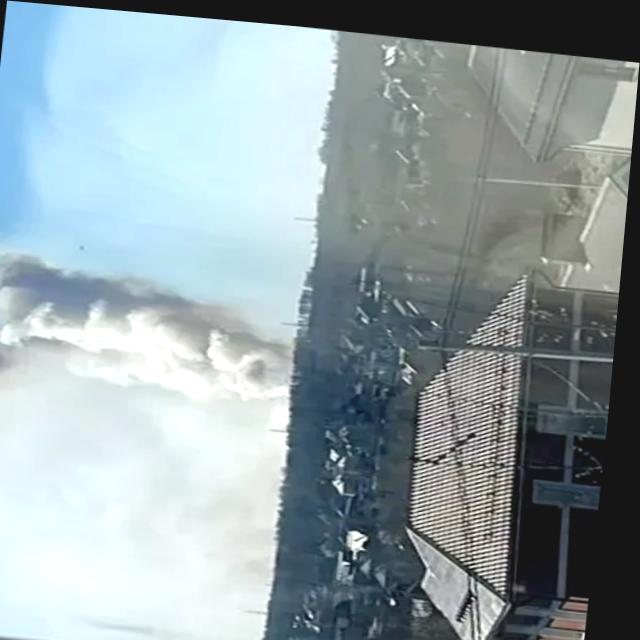Smoke: (0, 249, 288, 429)
